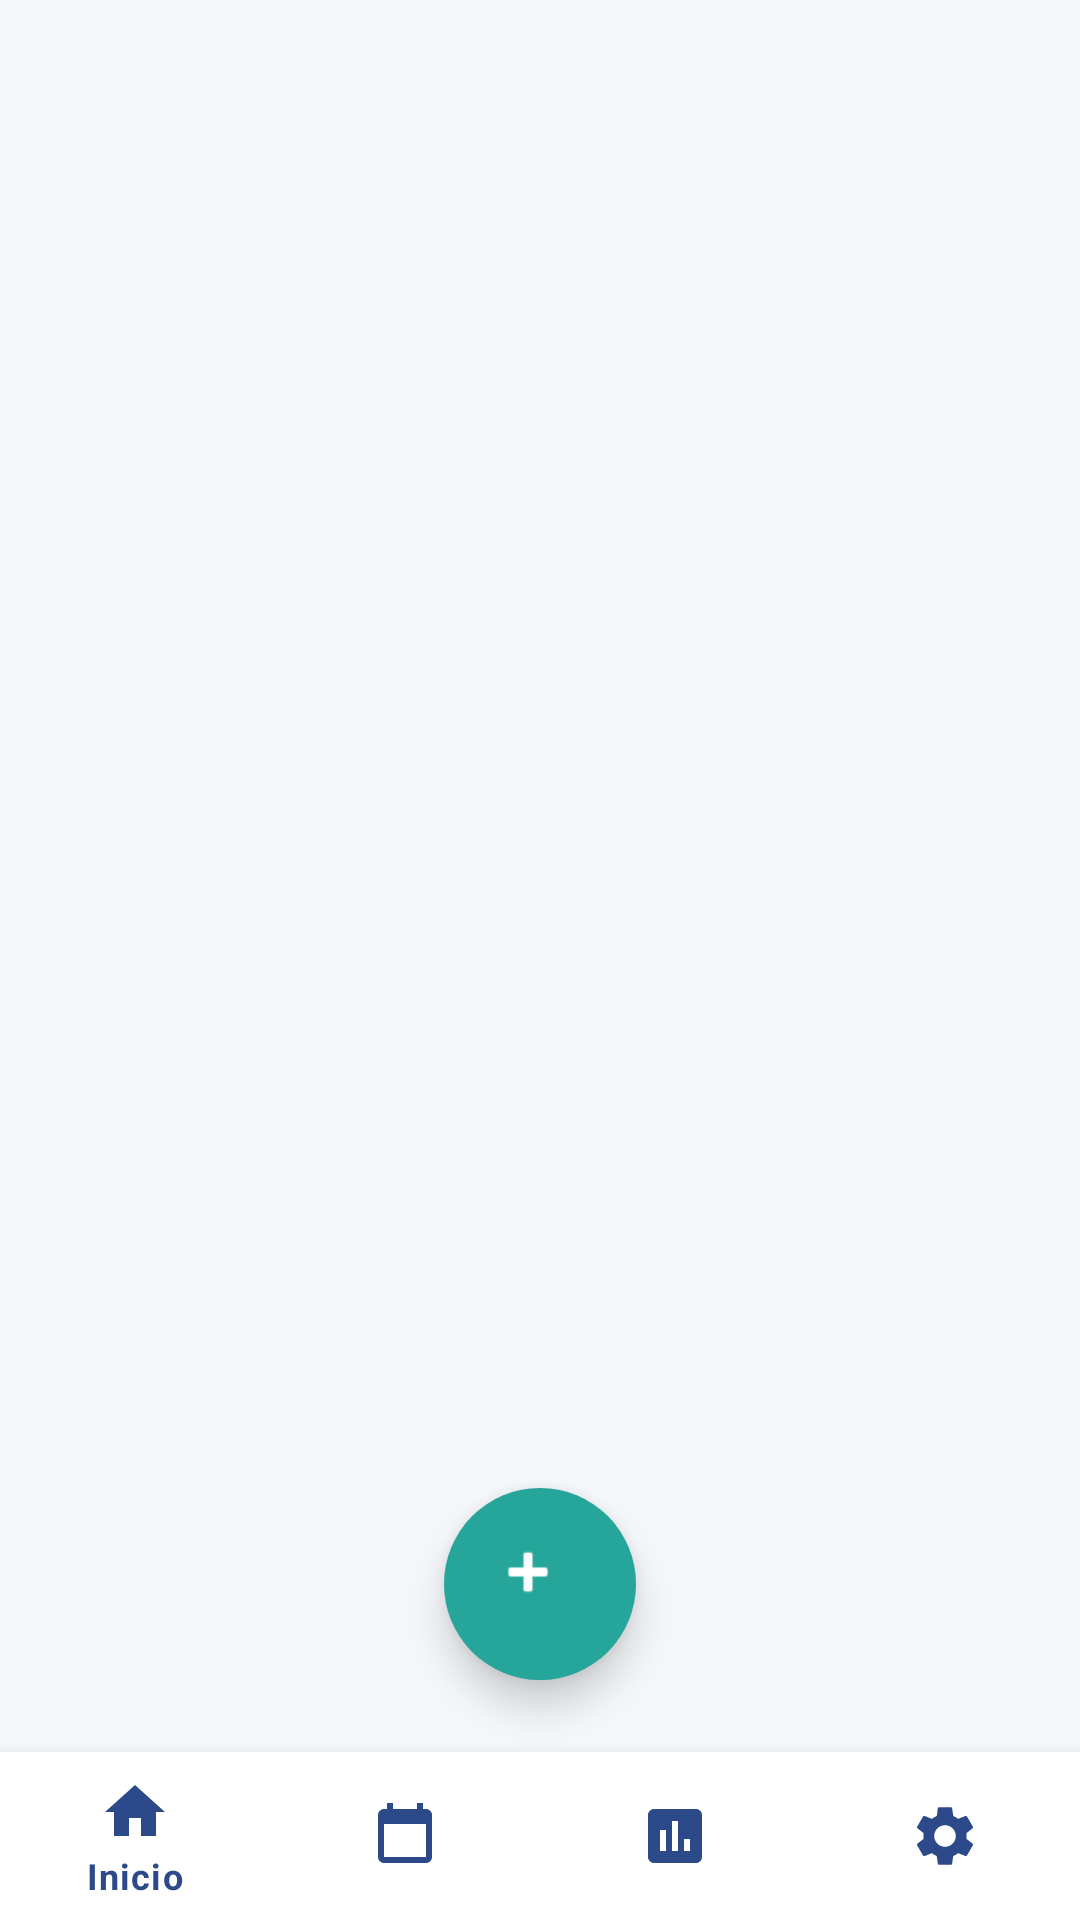

Icons on this 1080 x 1920 Android screen, each with the point to tap as (x=x, y=y):
add: (x=540, y=1584)
